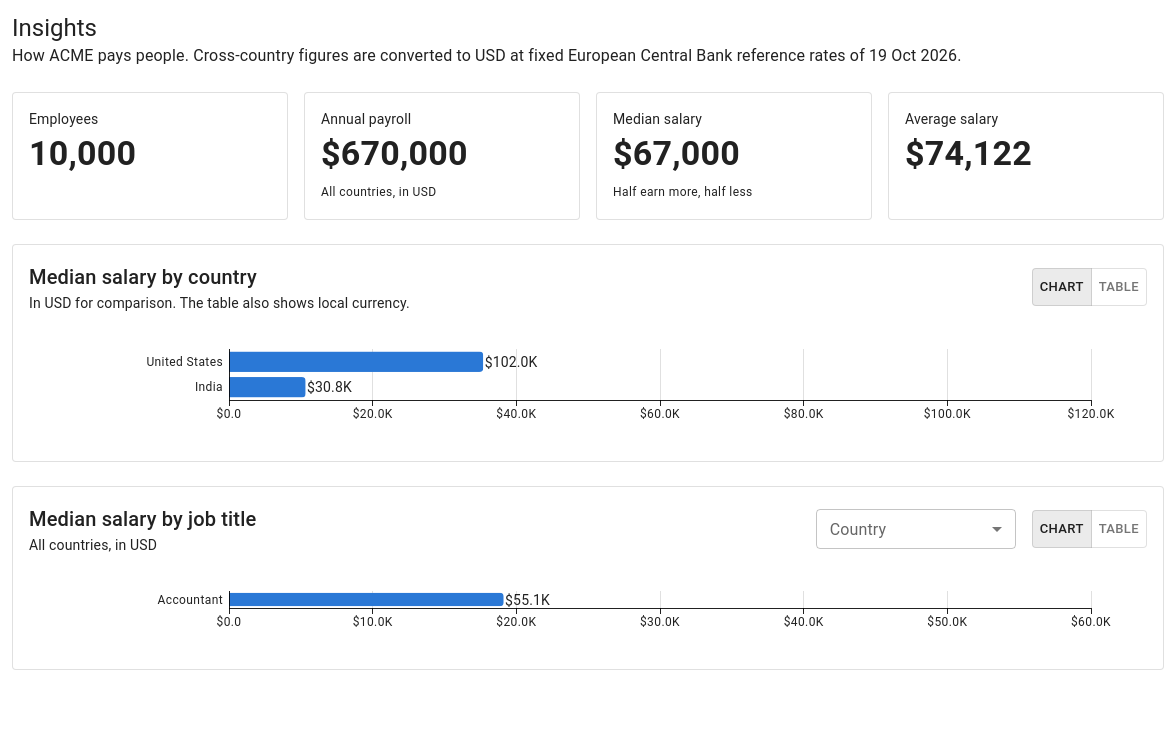
Test case: InsightsPage › shows countries in a table with local currency and USD, highest median first
This screenshot has width=1164, height=732.
Click the button "Table" in the row of "Median salary by country": {"x": 1119, "y": 287} [1091,268,1147,306]
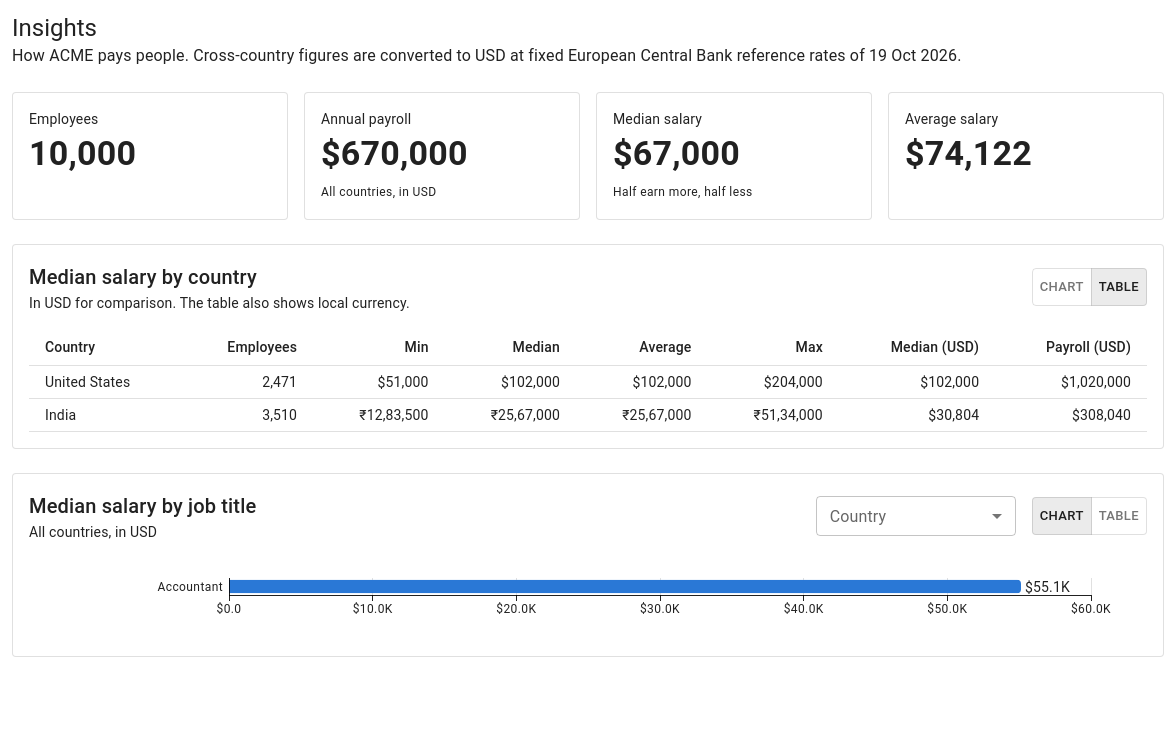
Now the row that starts with "United States" is shown, box [45,374,130,390]
Now the row that starts with "India" is shown, box [45,407,76,423]
Now the row that starts with "India" shows "₹25,67,000", box [491,407,560,423]
